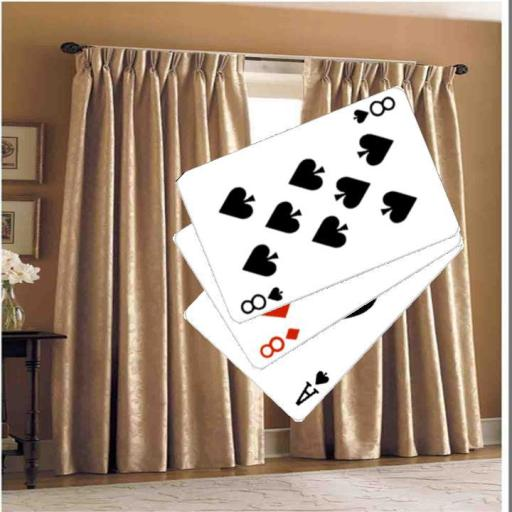8D: (256, 324, 302, 361)
8S: (349, 92, 398, 126), (237, 284, 284, 316)
AS: (292, 368, 332, 408)
